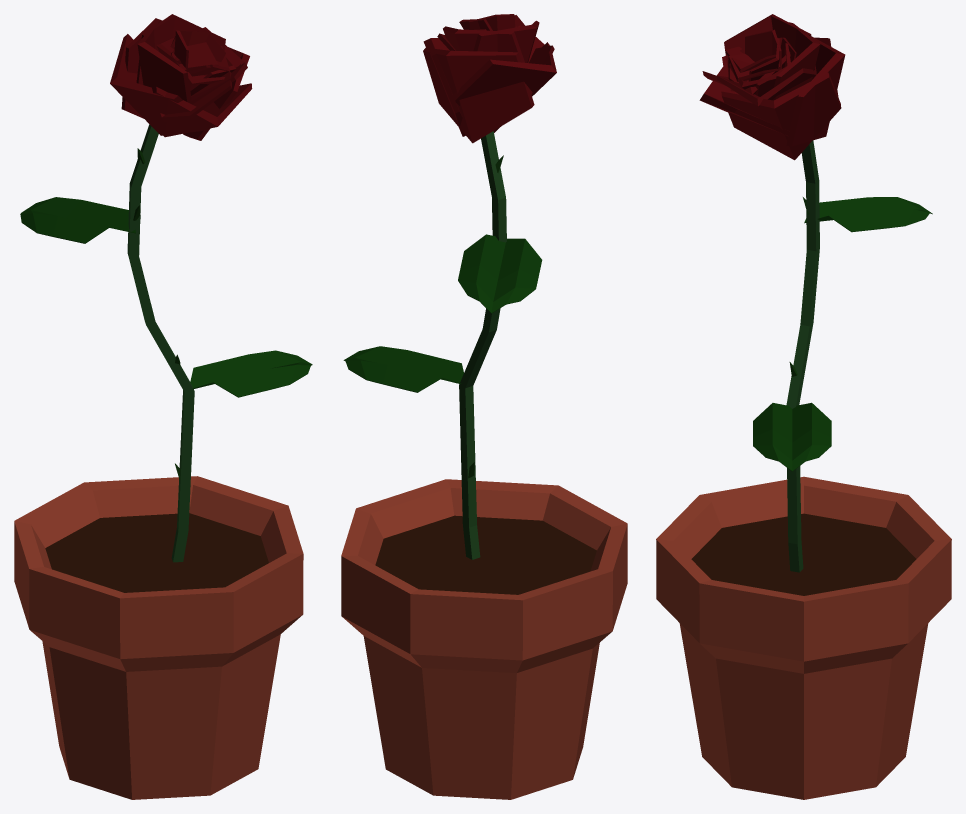
Rendered from low_poly_rose.glb.
3 views of the same model, side by side, from view 1: azimuth 30°, elevation 25°; view 2: azimuth 150°, elevation 25°; view 3: azimuth 270°, elevation 25° (orthographic).
Parts seen in each view (by area): view 1: vase_2, Dirt_3, Cube.001_5, Leaf 2_1, tige_0; view 2: vase_2, Dirt_3, Cube.001_5, Leaf 2_1, tige_0; view 3: vase_2, Cube.001_5, Dirt_3, Leaf 2_1, tige_0.
Boxes of the visible parts, bbox=[...] form: vase_2: bbox=[14, 476, 303, 799]; Dirt_3: bbox=[45, 513, 268, 592]; Cube.001_5: bbox=[110, 14, 252, 140]; Leaf 2_1: bbox=[20, 197, 312, 397]; tige_0: bbox=[127, 124, 194, 562]; vase_2: bbox=[341, 479, 627, 799]; Dirt_3: bbox=[375, 515, 596, 594]; Cube.001_5: bbox=[423, 14, 556, 143]; Leaf 2_1: bbox=[343, 234, 542, 392]; tige_0: bbox=[459, 131, 506, 559]; vase_2: bbox=[656, 476, 951, 799]; Cube.001_5: bbox=[699, 14, 845, 160]; Dirt_3: bbox=[691, 513, 916, 595]; Leaf 2_1: bbox=[753, 197, 932, 471]; tige_0: bbox=[786, 140, 819, 572].
Bounding box in the file's own units: 6.31 × 16.01 × 5.89.
